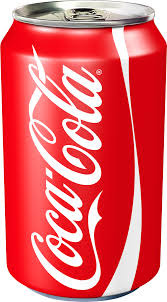coke: (1, 1, 165, 302)
